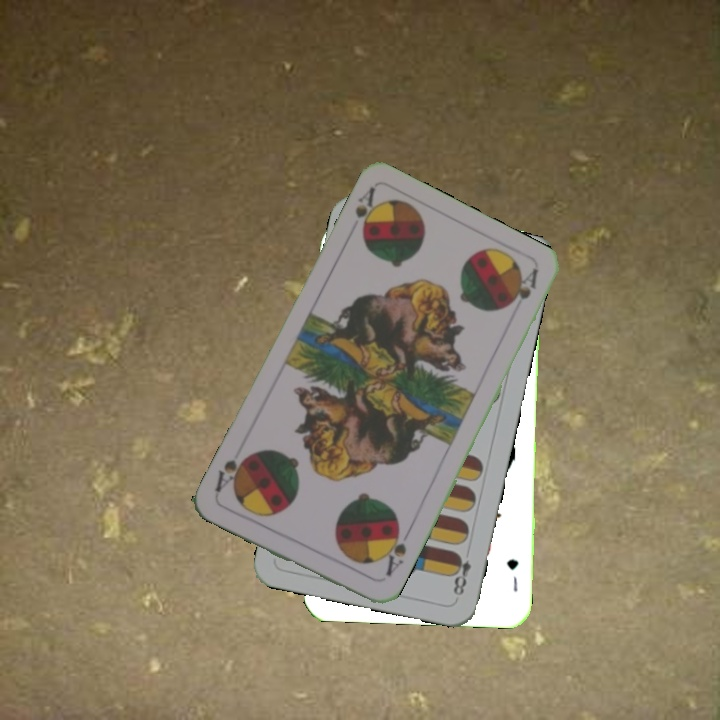E8: (448, 549, 474, 599)
GU: (502, 555, 521, 594)
SA: (350, 183, 384, 241), (377, 524, 412, 579)
